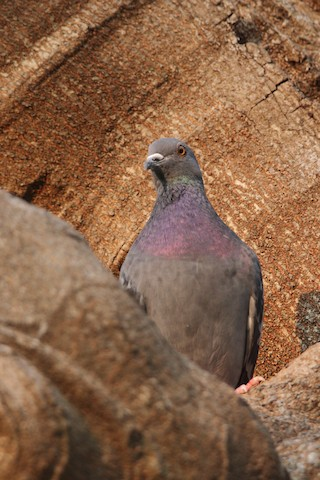pigeon: (110, 134, 265, 402)
